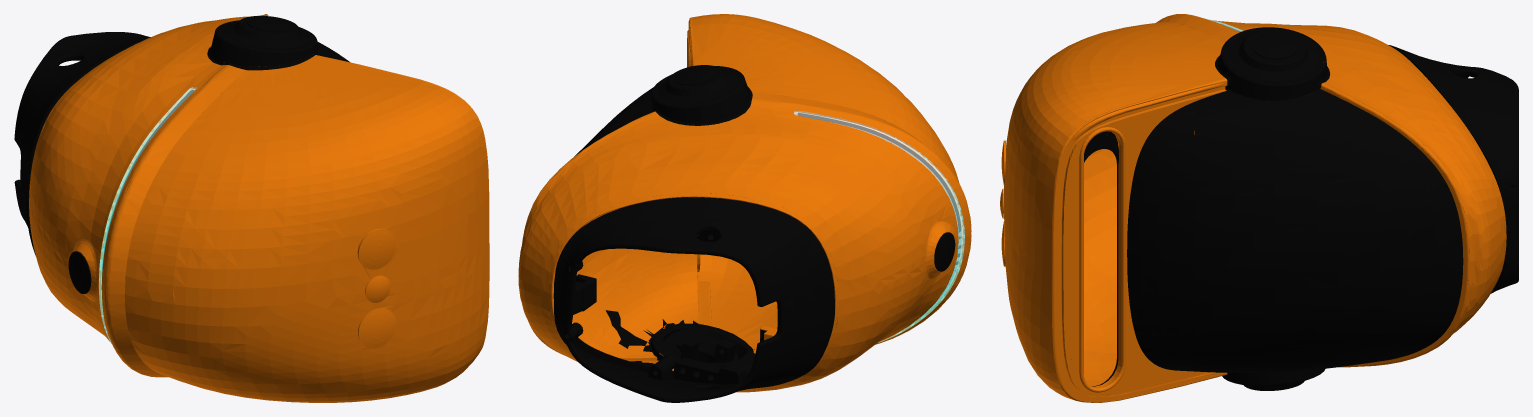
Rendered from head_pitch.glb.
3 views of the same model, side by side, from view 1: azimuth 30°, elevation 25°; view 2: azimuth 150°, elevation 25°; view 3: azimuth 270°, elevation 25° (orthographic). The views are drawn at different scales.
Parts seen in each view (by area): view 1: link7.005, link7.017, link7, link7.047, link7.043, link7.034, link7.010, link7.045, link7.040; view 2: link7.017, link7, link7.005, link7.034, link7.035, link7.010, link7.040; view 3: link7.017, link7.005, link7, link7.040.
Part boxes in pixels (left/top/right/bottom): link7.005: left=124, top=55, right=489, bottom=402; link7.017: left=29, top=14, right=349, bottom=377; link7: left=14, top=32, right=150, bottom=255; link7.047: left=357, top=228, right=396, bottom=269; link7.043: left=358, top=308, right=396, bottom=348; link7.034: left=99, top=87, right=196, bottom=345; link7.010: left=68, top=251, right=91, bottom=293; link7.045: left=365, top=275, right=390, bottom=302; link7.040: left=247, top=17, right=290, bottom=31; link7.017: left=518, top=30, right=971, bottom=392; link7: left=553, top=197, right=834, bottom=402; link7.005: left=688, top=14, right=959, bottom=349; link7.034: left=794, top=110, right=964, bottom=342; link7.035: left=797, top=112, right=961, bottom=299; link7.010: left=934, top=232, right=955, bottom=271; link7.040: left=675, top=67, right=714, bottom=85; link7.017: left=1058, top=14, right=1506, bottom=396; link7.005: left=1004, top=22, right=1227, bottom=402; link7: left=1389, top=45, right=1518, bottom=293; link7.040: left=1252, top=34, right=1296, bottom=59.
Size of the model in its own units: 0.183 by 0.1693 by 0.2316.
